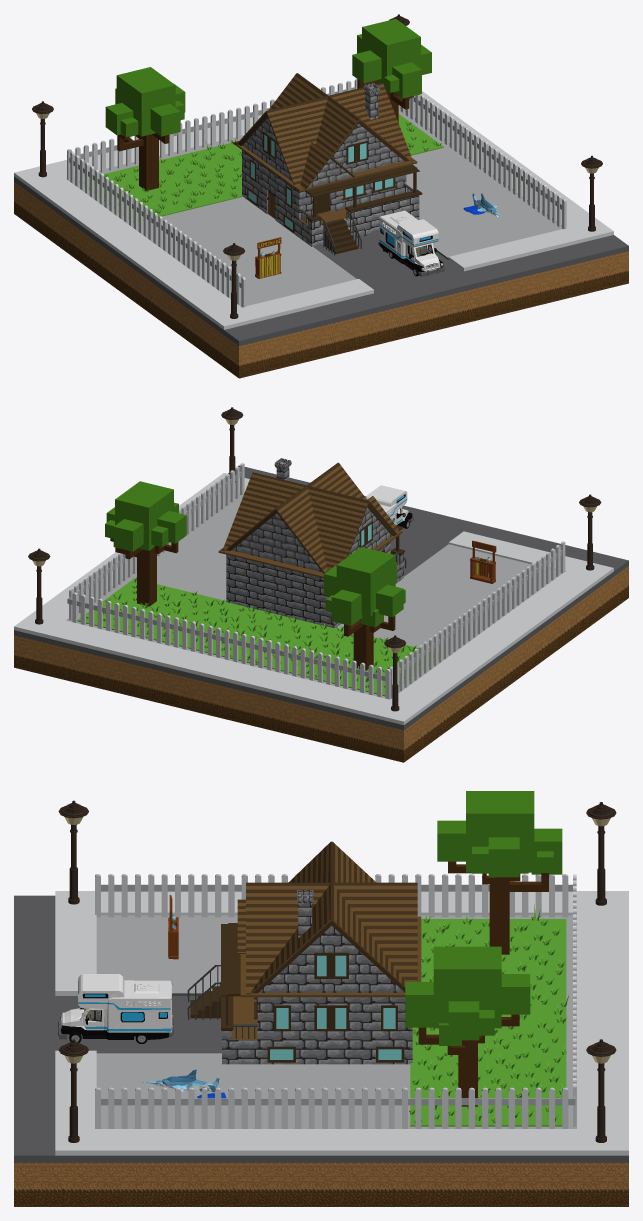
3 views of the same model, one above another, from view 1: azimuth 30°, elevation 25°; view 2: azimuth 150°, elevation 25°; view 3: azimuth 270°, elevation 25° (orthographic). The views are drawn at different scales.
Visible parts, largest first — view 1: Cube.004, Cube.586, VEHICLES_CAMPER, OBJRANDOM_LEMONADE_STAND; view 2: Cube.004, Cube.586, VEHICLES_CAMPER, OBJRANDOM_LEMONADE_STAND; view 3: Cube.004, Cube.586, VEHICLES_CAMPER, ANIMAL_PEZ_ESPADA.
Boxes of the visible parts, x1,y1,x2,y2 form: Cube.004: (14,14,628,378); Cube.586: (233,73,422,255); VEHICLES_CAMPER: (378,210,444,276); OBJRANDOM_LEMONADE_STAND: (255,237,281,278); Cube.004: (14,407,628,762); Cube.586: (218,458,406,627); VEHICLES_CAMPER: (366,485,413,528); OBJRANDOM_LEMONADE_STAND: (470,540,496,583); Cube.004: (14,791,628,1206); Cube.586: (187,841,421,1064); VEHICLES_CAMPER: (58,974,173,1043); ANIMAL_PEZ_ESPADA: (141,1069,226,1098).
Size of the model in its own units: 4000 by 1610 by 4000.
Materials: 41 (4 with a texture image).
